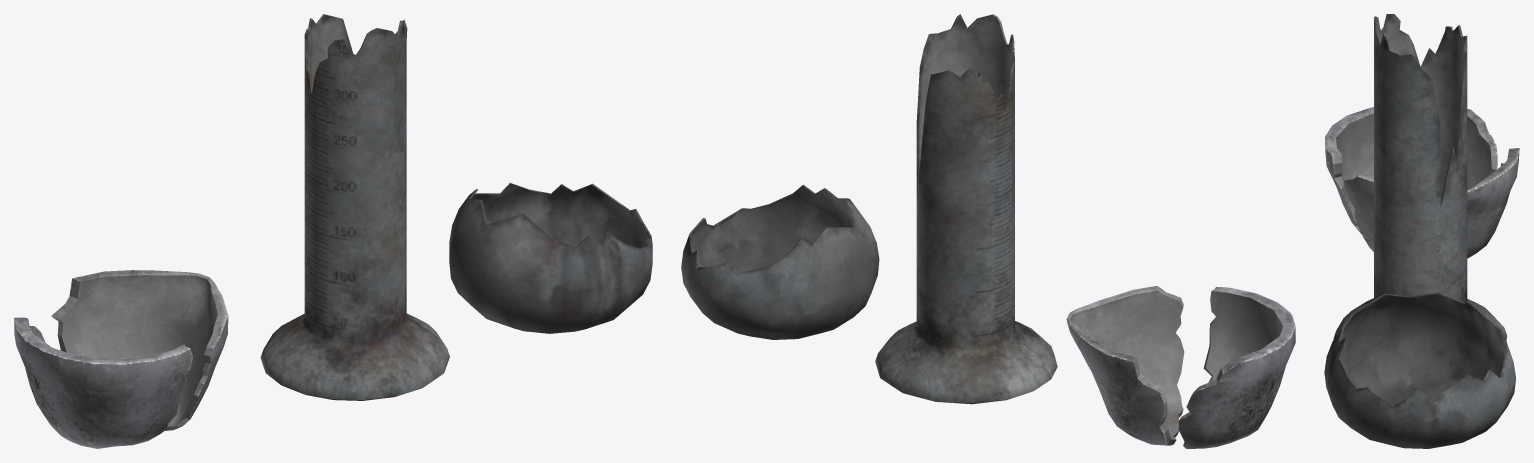
Rendered from ChemistryItem2_broken.fbx.
The picture shows the model from 3 angles, left to right: view 1: azimuth 30°, elevation 25°; view 2: azimuth 150°, elevation 25°; view 3: azimuth 270°, elevation 25°; orthographic projection. The views are drawn at different scales.
Visible parts, largest first — view 1: Chem2_GC, Chem2_VC, Chem2_M2, Chem2_M1; view 2: Chem2_GC, Chem2_VC, Chem2_M2, Chem2_M1; view 3: Chem2_GC, Chem2_VC, Chem2_M1, Chem2_M2.
Boxes of the visible parts, left/top/right/bottom form: Chem2_GC: left=260, top=14, right=449, bottom=400; Chem2_VC: left=449, top=183, right=652, bottom=333; Chem2_M2: left=51, top=270, right=228, bottom=430; Chem2_M1: left=14, top=317, right=192, bottom=448; Chem2_GC: left=875, top=14, right=1057, bottom=404; Chem2_VC: left=681, top=184, right=879, bottom=339; Chem2_M2: left=1066, top=286, right=1184, bottom=445; Chem2_M1: left=1178, top=287, right=1295, bottom=448; Chem2_GC: left=1333, top=14, right=1506, bottom=341; Chem2_VC: left=1324, top=292, right=1515, bottom=448; Chem2_M1: left=1325, top=107, right=1497, bottom=234; Chem2_M2: left=1343, top=148, right=1519, bottom=258.
Size of the model in its own units: 15.83 by 8.85 by 4.73.
